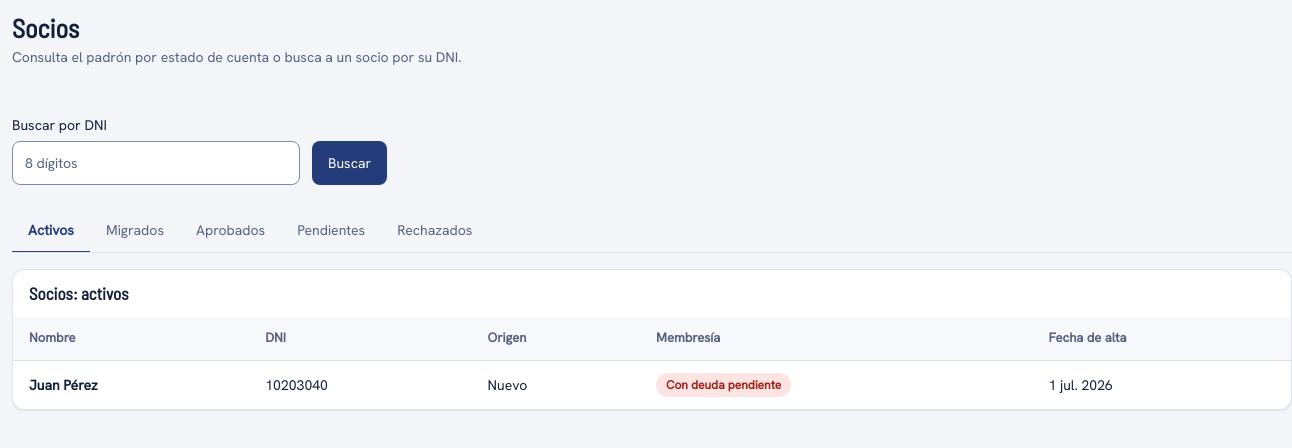
Test: MembersManagementPage › cambia de pestaña, guarda ?tab= y consulta el estado correspondiente
Check: the text "Juan Pérez" is shown, box top-left (29, 376), bottom-right (98, 394)
Step 1. Click the tab "Migrados" → (135, 231), box top-left (90, 209), bottom-right (180, 253)
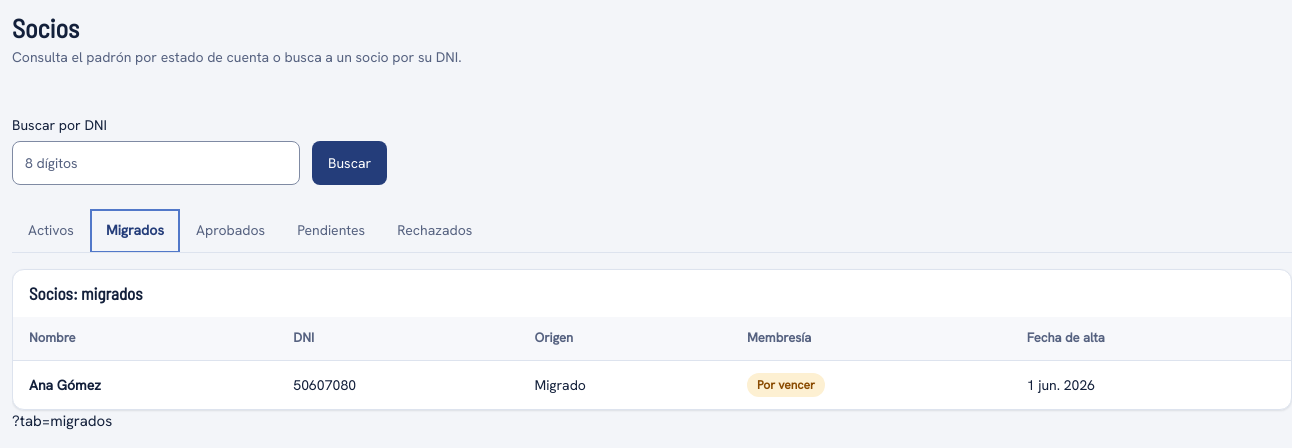
Check: the text "Ana Gómez" is shown, box top-left (29, 376), bottom-right (101, 394)
Check: the text with test id "location-search" reads "?tab=migrados", box top-left (12, 411), bottom-right (112, 431)
Check: the text "Por vencer" is shown, box top-left (747, 373), bottom-right (825, 397)
